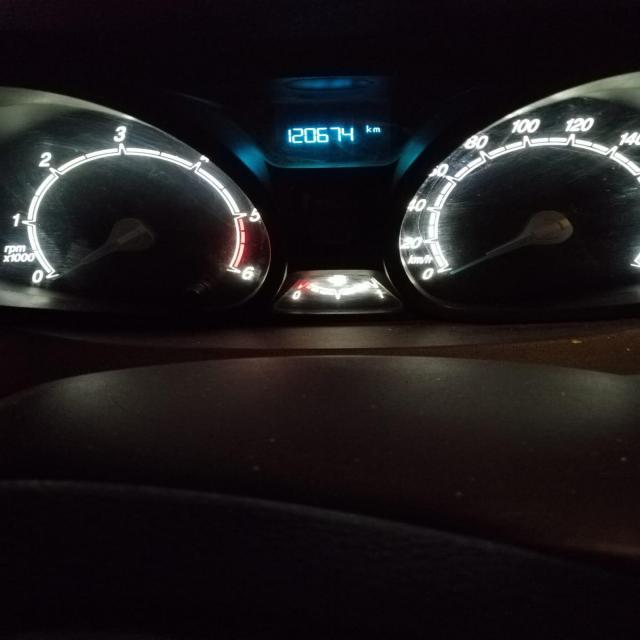odometer: (265, 111, 392, 167)
